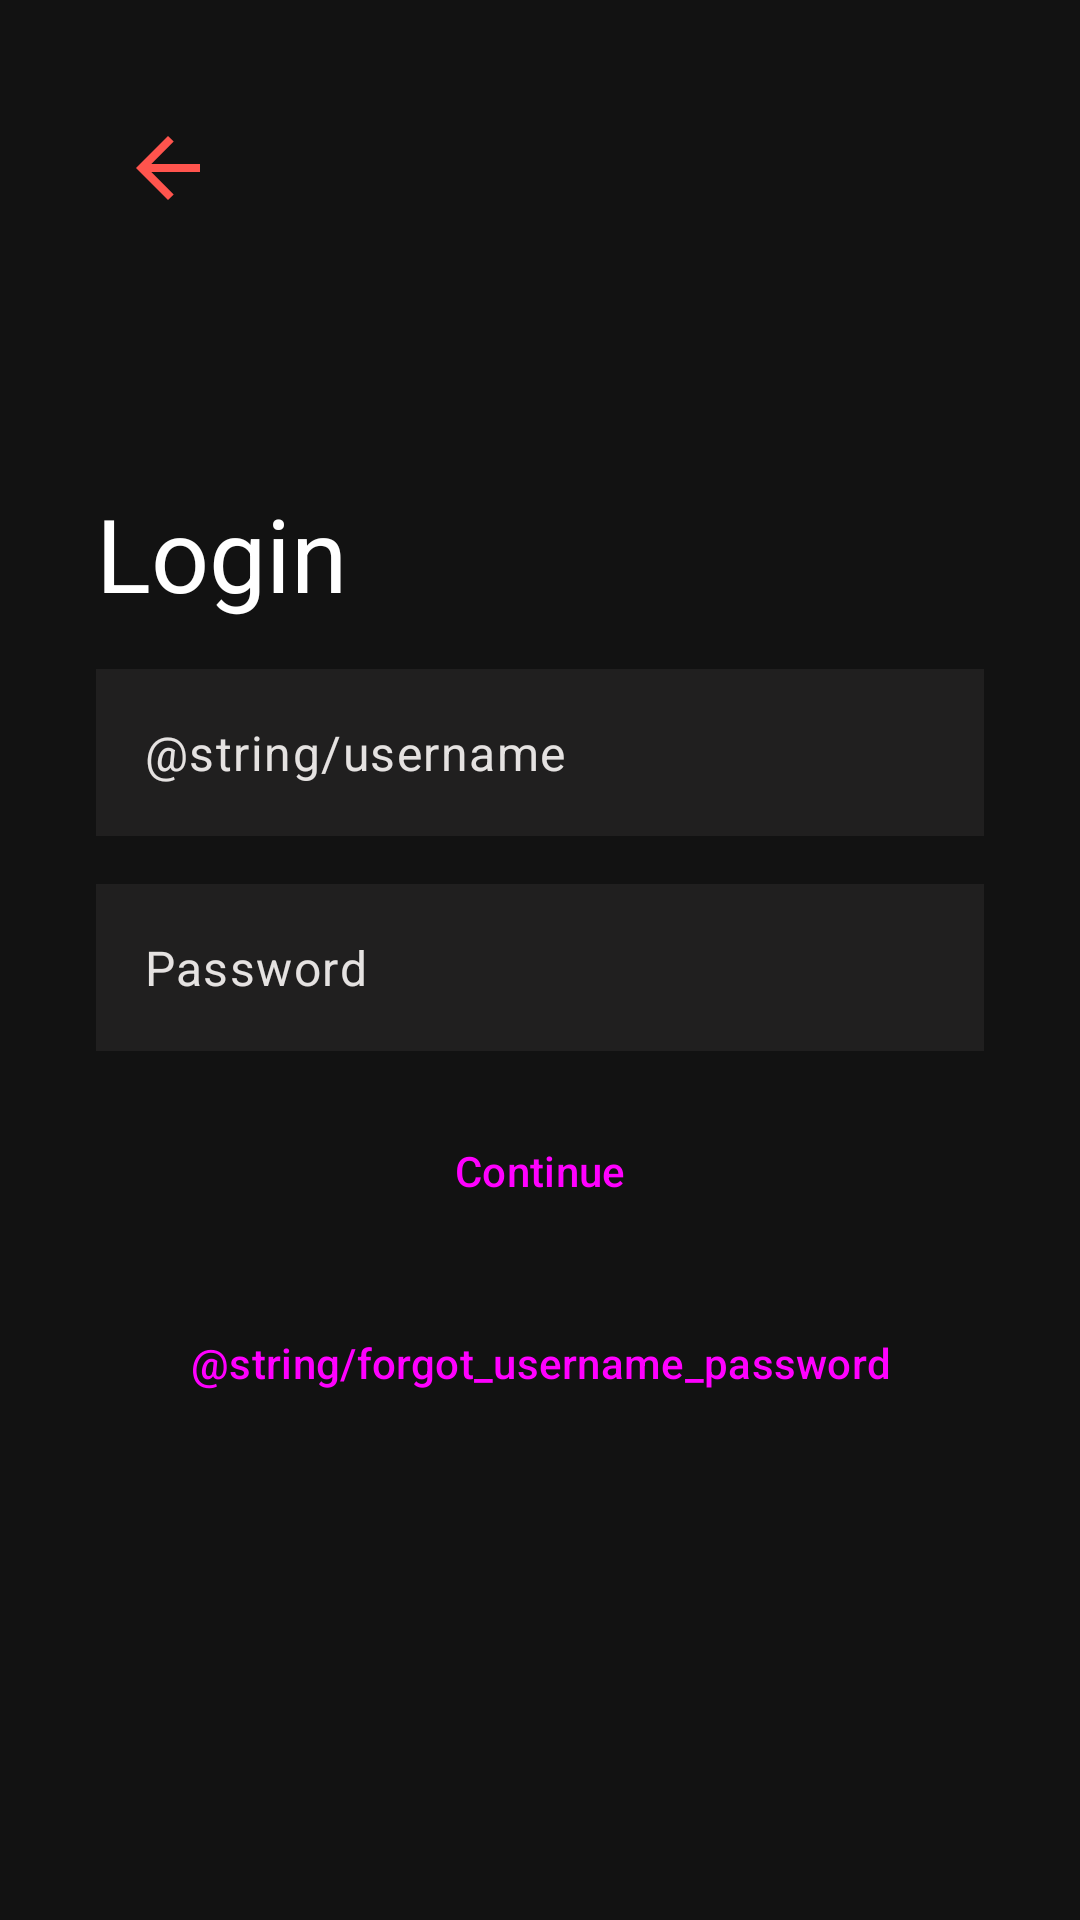

Locate icon controls on the screen. Image size 1080×1920, boxes as (x1, y1, x2, y2).
Back: (136, 136, 200, 200)
